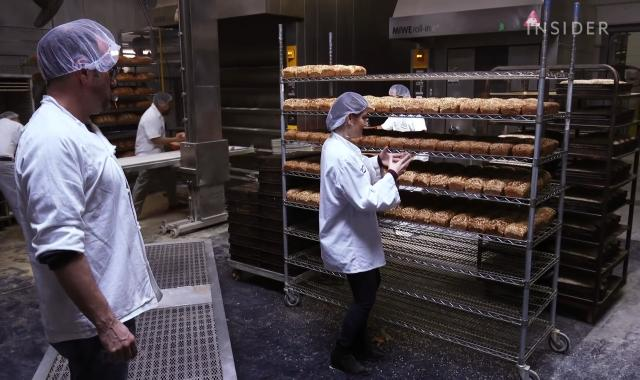hairnet: (36, 16, 120, 74), (325, 92, 368, 129), (386, 83, 412, 100), (152, 91, 173, 106)
